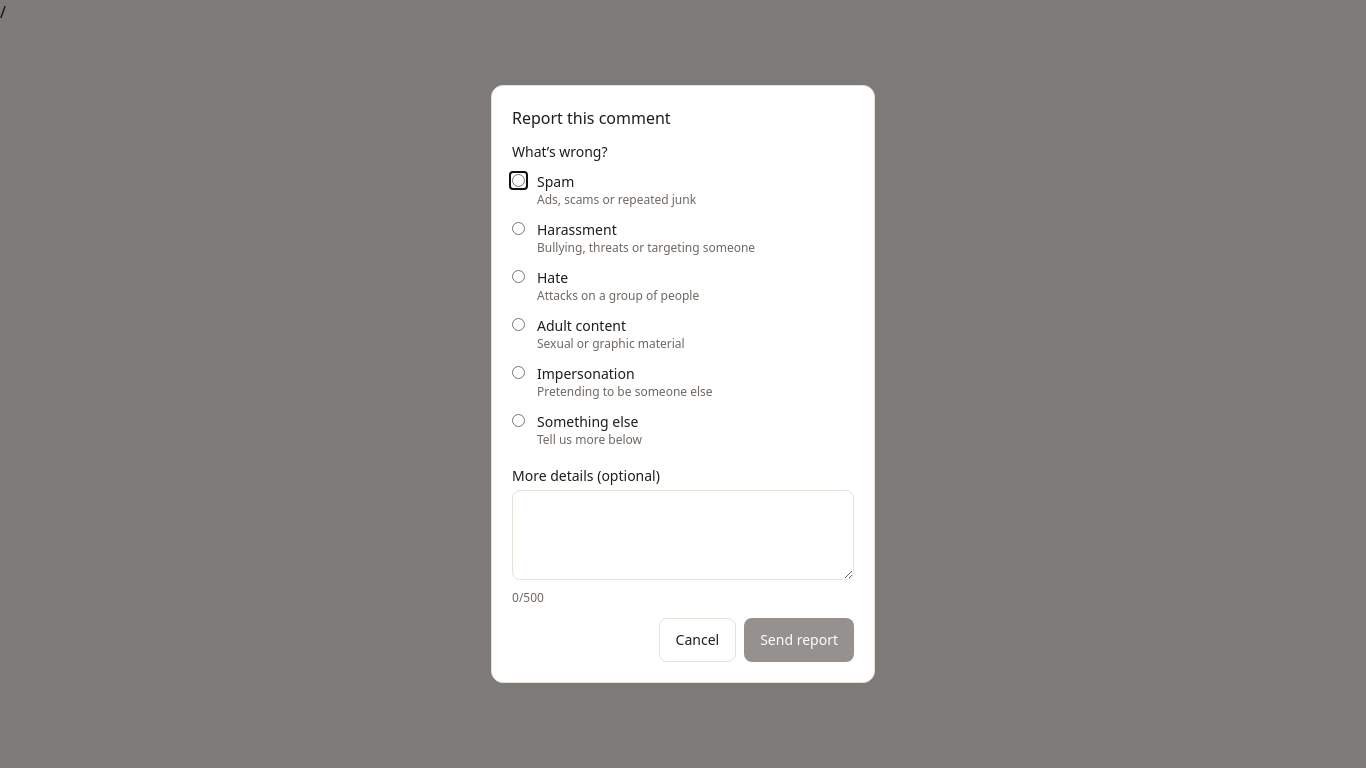
Test: ReportDialog › sends trimmed details when they were written
Click the radio button labelled "Something else Tell us more below". click: [518, 420]
box: [512, 414, 525, 427]
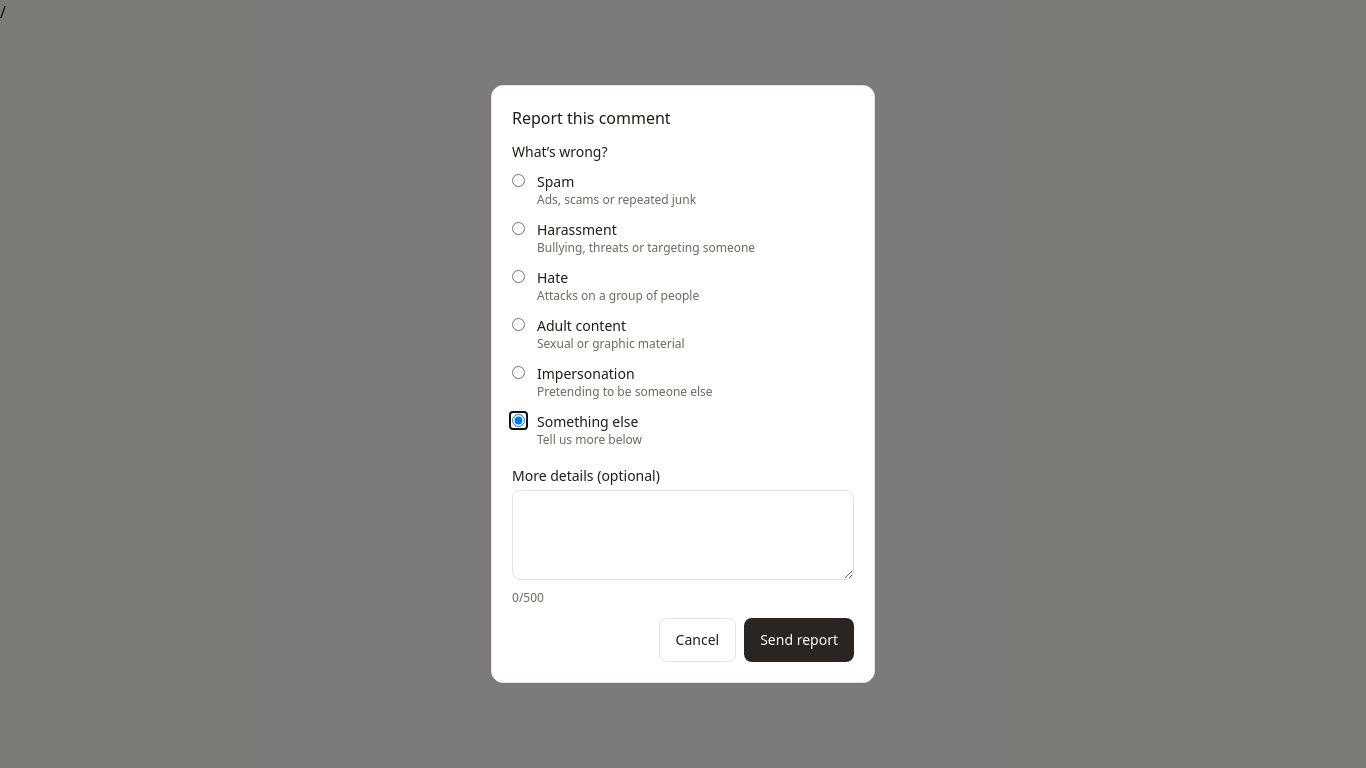
Type "  keeps messaging me  " into the text box labelled "More details (optional)". click: [683, 535]
box: [512, 490, 854, 580]
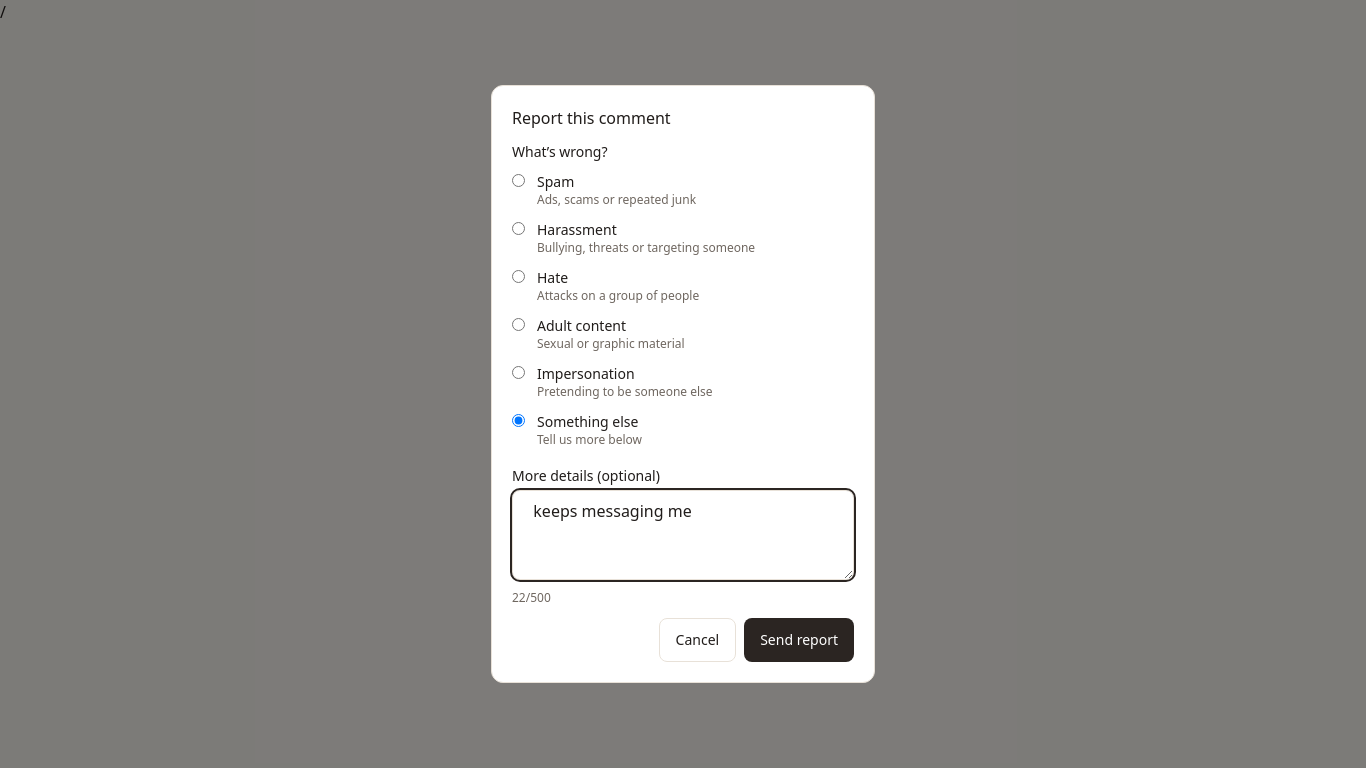
Click the button "Send report". click: [799, 640]
box: [744, 618, 854, 662]
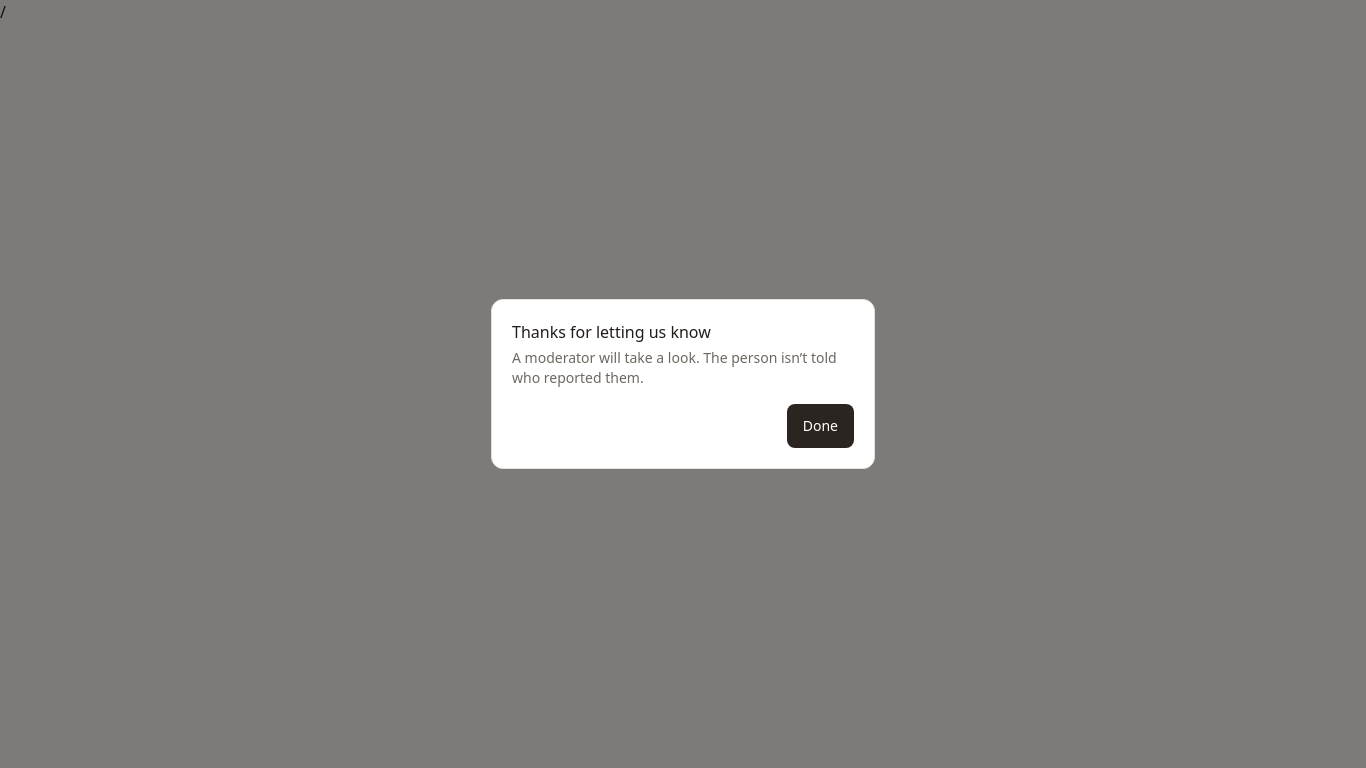
Now the heading "Thanks for letting us know" is shown, box [512, 321, 711, 343]
